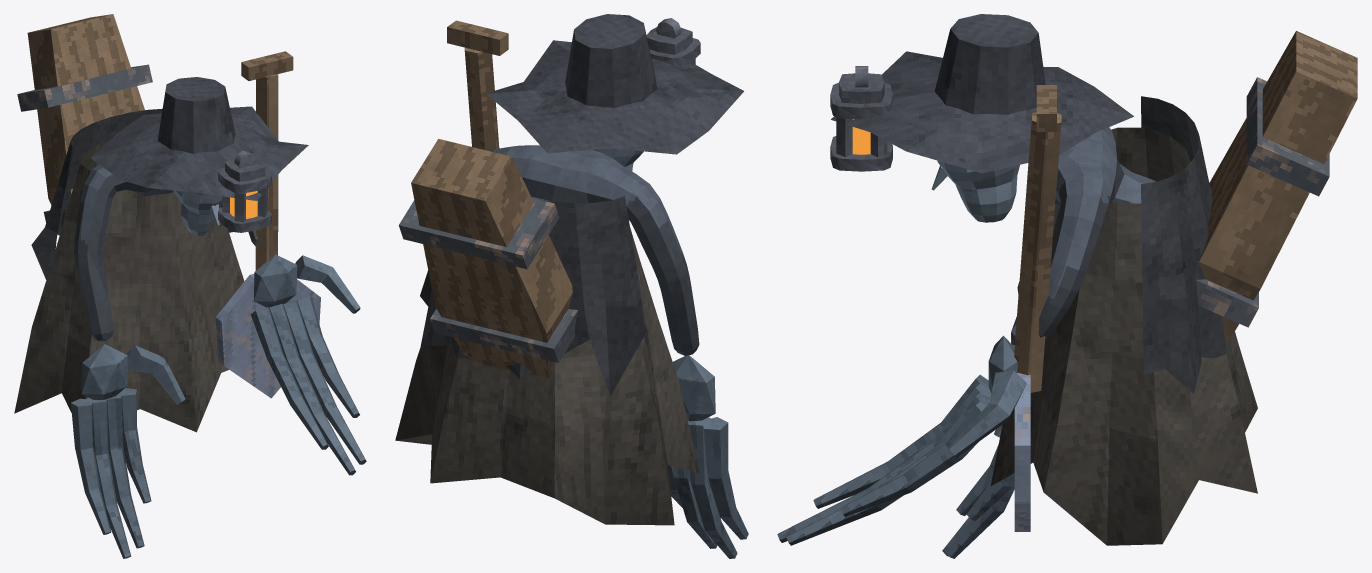
Rendered from gravedigger.glb.
3 renders of one model, left to right at view 1: azimuth 30°, elevation 25°; view 2: azimuth 150°, elevation 25°; view 3: azimuth 270°, elevation 25°, orthographic. The views are drawn at different scales.
Visible parts, largest first — view 1: gravedigger; view 2: gravedigger; view 3: gravedigger.
Part boxes in pixels (x1,y1,x2,y2): gravedigger: [14, 14, 366, 558]; gravedigger: [395, 14, 748, 558]; gravedigger: [777, 14, 1357, 558].
Size of the model in its own units: 2.05 by 3.2 by 2.89.
2 materials, 1 textured.
